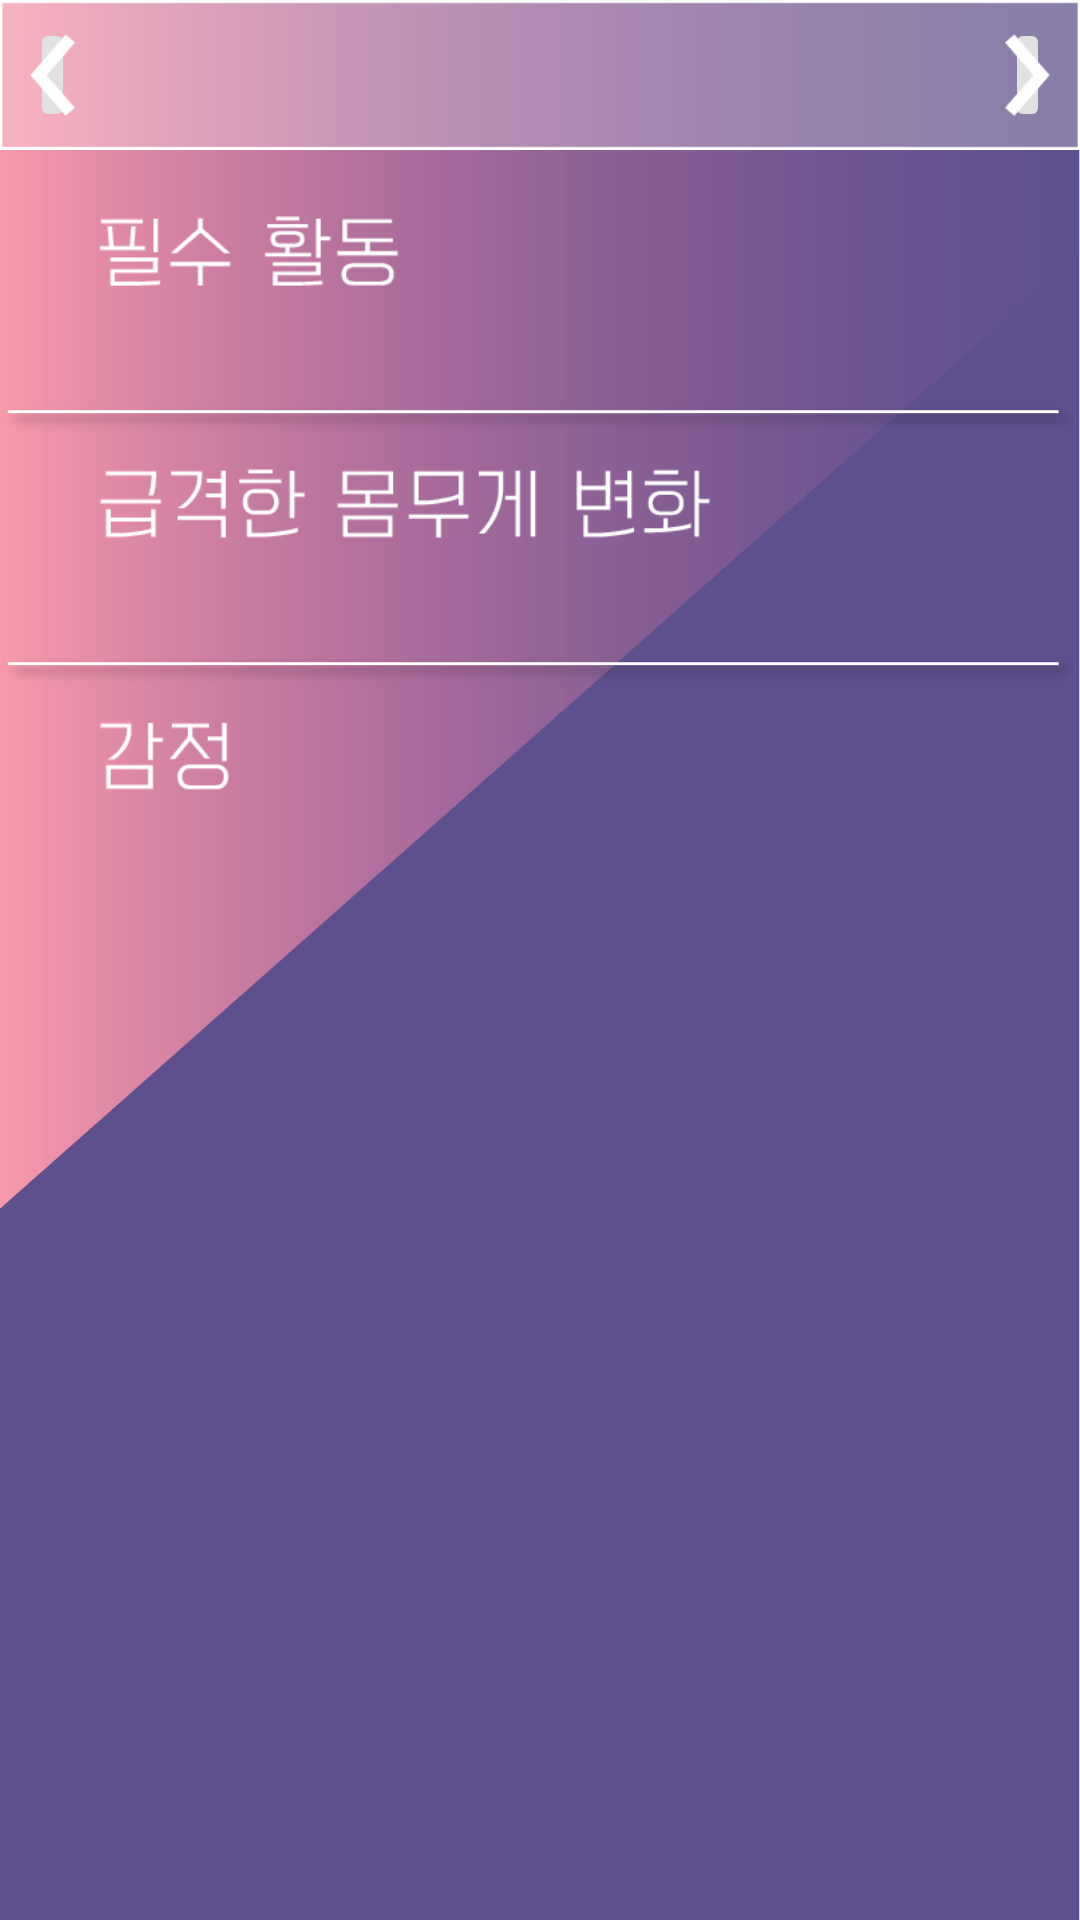

Locate icon controls on the screen. Image size 1080px x 1920px, boxes as BBox(x1, y1, x2, y2).
mood arrow left: BBox(31, 35, 75, 115)
mood arrow right: BBox(1005, 34, 1050, 116)
